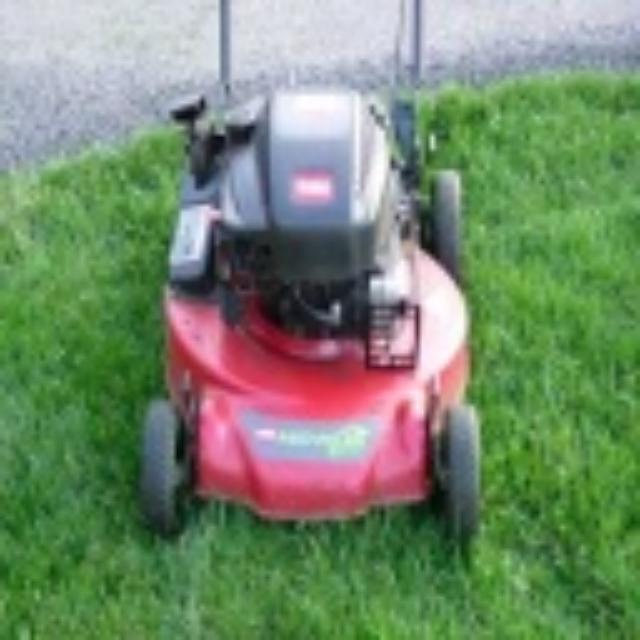Rotary-Mower: (130, 1, 486, 556)
